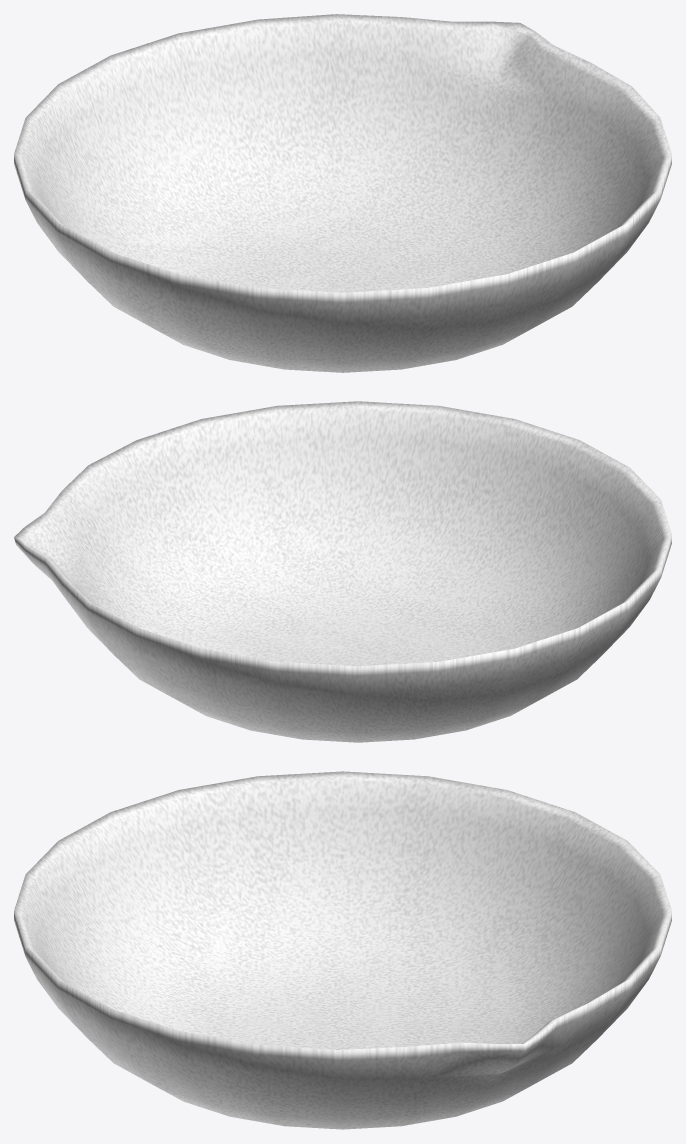
The model's file is chemical_Evaporating dish001.FBX.
3 views of the same model, one above another, from view 1: azimuth 30°, elevation 25°; view 2: azimuth 150°, elevation 25°; view 3: azimuth 270°, elevation 25° (orthographic). The views are drawn at different scales.
Parts seen in each view (by area): view 1: chemical_Evaporating dish001; view 2: chemical_Evaporating dish001; view 3: chemical_Evaporating dish001.
Part boxes in pixels (left/top/right/bottom): chemical_Evaporating dish001: left=14, top=14, right=671, bottom=372; chemical_Evaporating dish001: left=14, top=401, right=671, bottom=742; chemical_Evaporating dish001: left=14, top=771, right=671, bottom=1129.
Bounding box in the file's own units: 6.23 × 1.61 × 6.22.
Materials: 1 (1 with a texture image).
